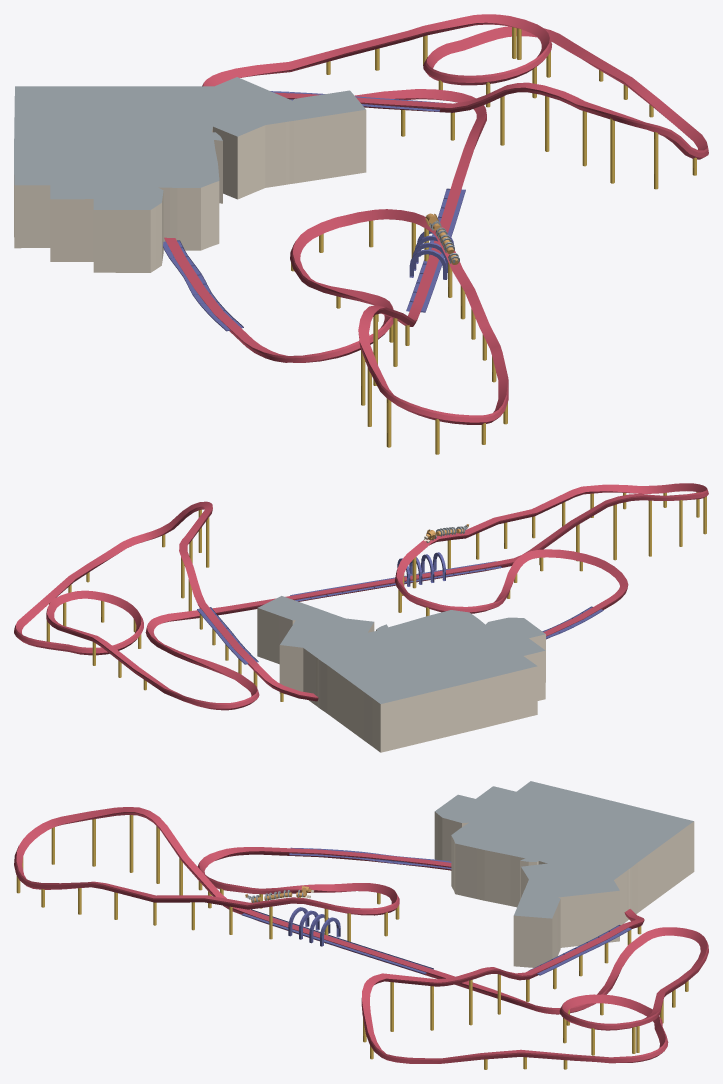
File: wdw-slinky-dog-dash.glb
3 renders of one model, top to bottom at view 1: azimuth 30°, elevation 25°; view 2: azimuth 150°, elevation 25°; view 3: azimuth 270°, elevation 25°, orthographic. The views are drawn at different scales.
Visible parts, largest first — view 1: Slinky Dog Dash; view 2: Slinky Dog Dash; view 3: Slinky Dog Dash.
Part boxes in pixels (x1,y1,x2,y2): Slinky Dog Dash: [14, 14, 708, 454]; Slinky Dog Dash: [14, 483, 708, 752]; Slinky Dog Dash: [14, 781, 708, 1069].
Bounding box in the file's own units: 128 × 16.54 × 156.
